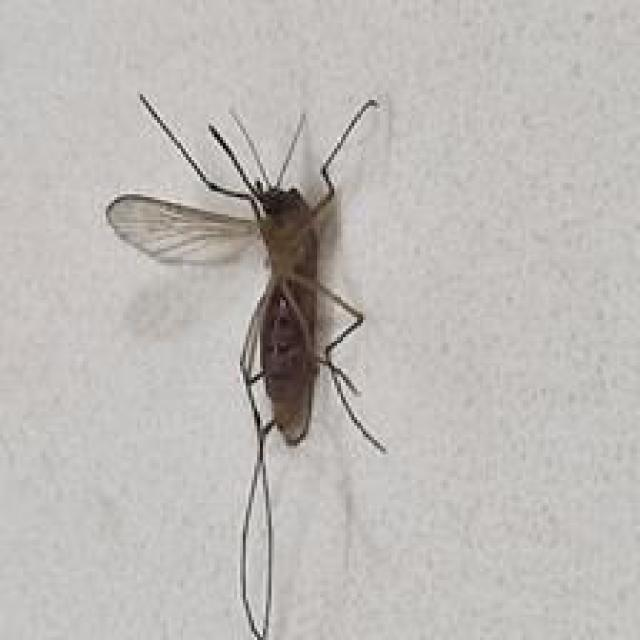Culex: (104, 90, 390, 639)
